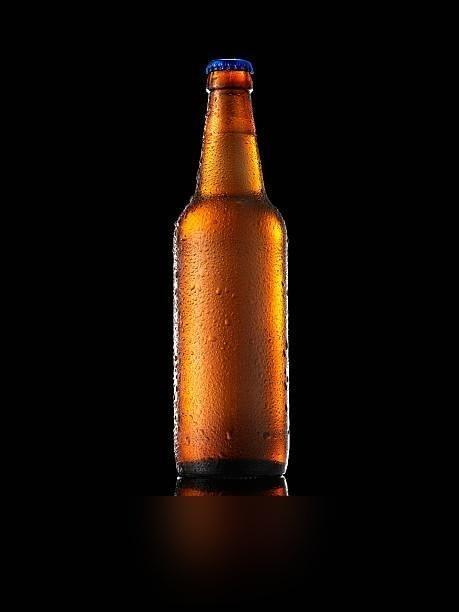bottle-glass: (166, 52, 296, 485)
